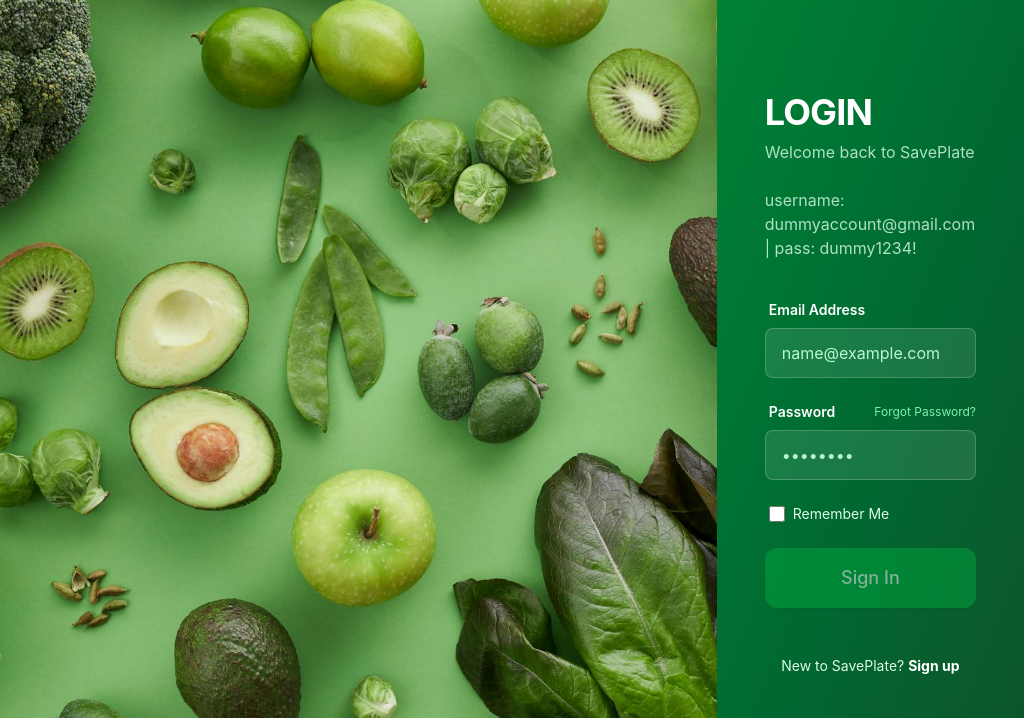
Test case: Sidebar Navigation E2E › should navigate to Donation Hub page
Step 1. Type "dummyaccount@gmail.com" into the field with id "email" → {"x": 871, "y": 353}, box [765,328,976,378]
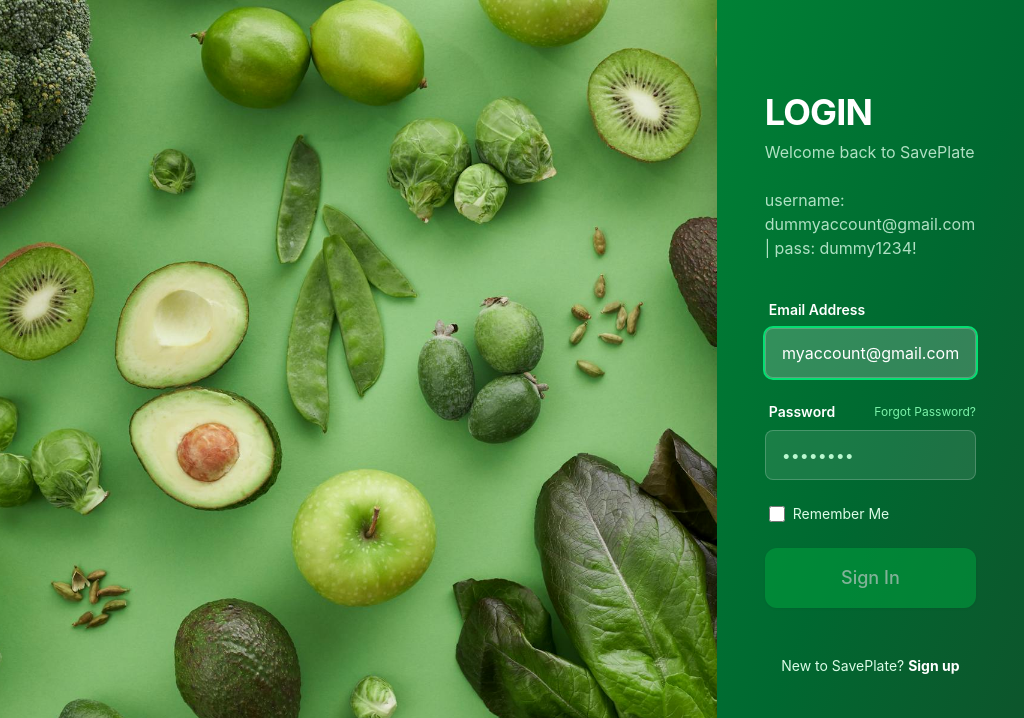
Step 2. Type "dummy1234!" into the password field labelled "Password" → {"x": 871, "y": 455}, box [765,430,976,480]
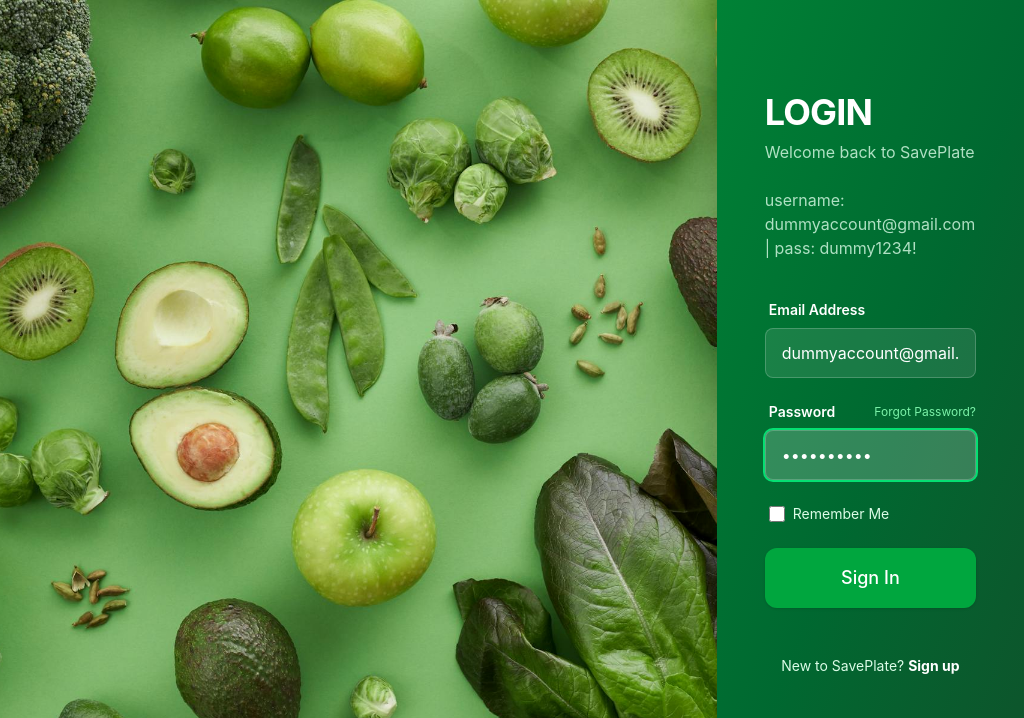
Step 3. Click the submit button → {"x": 871, "y": 578}, box [765,548,976,608]
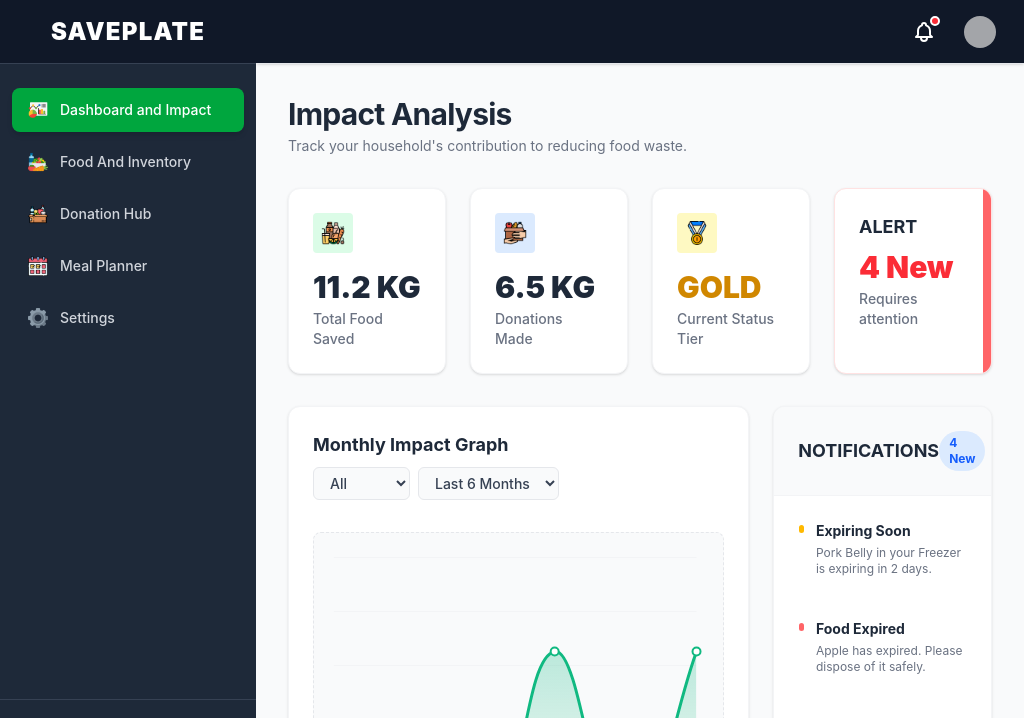
Step 4. Click the link "Donation Hub" → {"x": 90, "y": 214}, box [28,204,151,224]
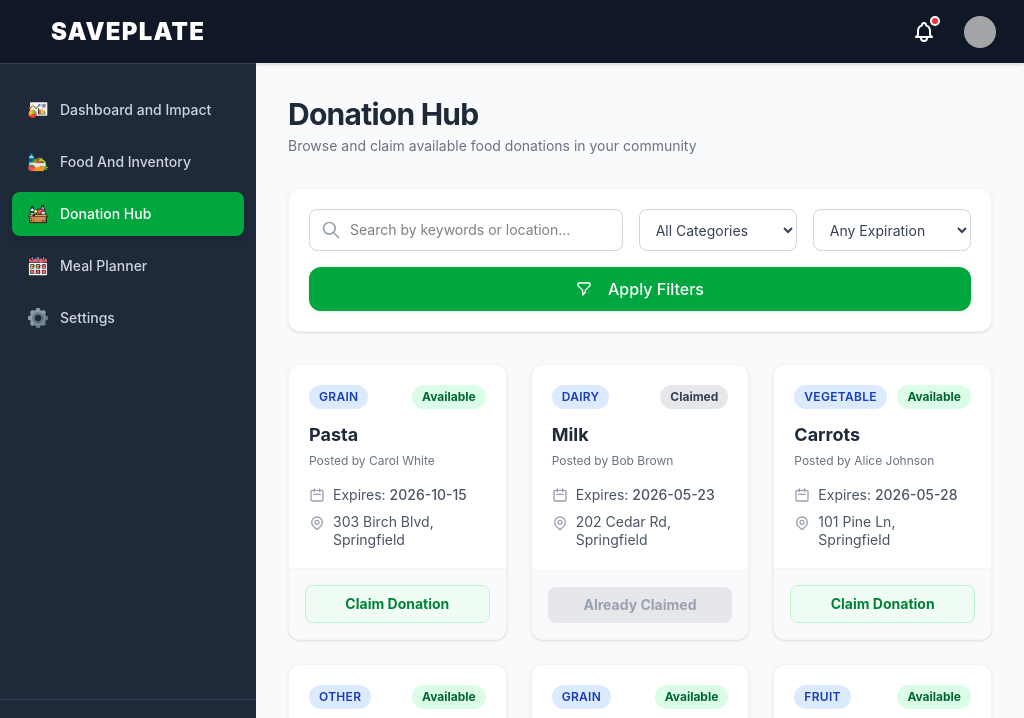
Expected: the heading "Donation Hub" is shown, [288,96,478,132]
